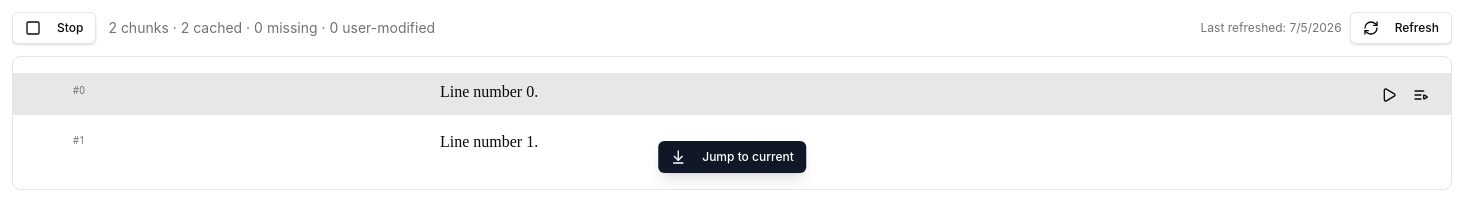
Test: ScreenplayViewer › pauses auto-follow on user scroll and restores it via Jump to current
The image size is (1464, 207).
Click the button "Jump to current" at (732,157), box [658, 141, 806, 173]
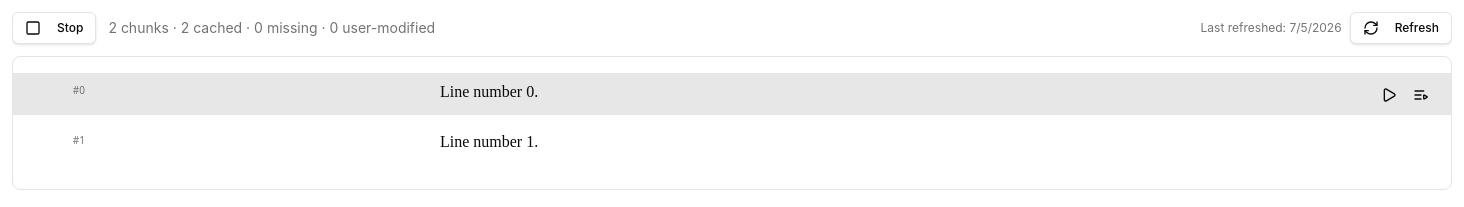
Expected: the button "Jump to current" is gone
